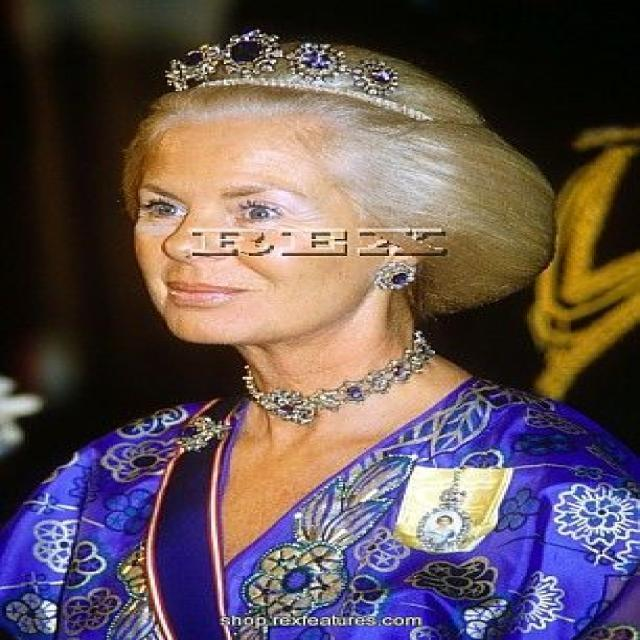Earring: (368, 244, 414, 304)
